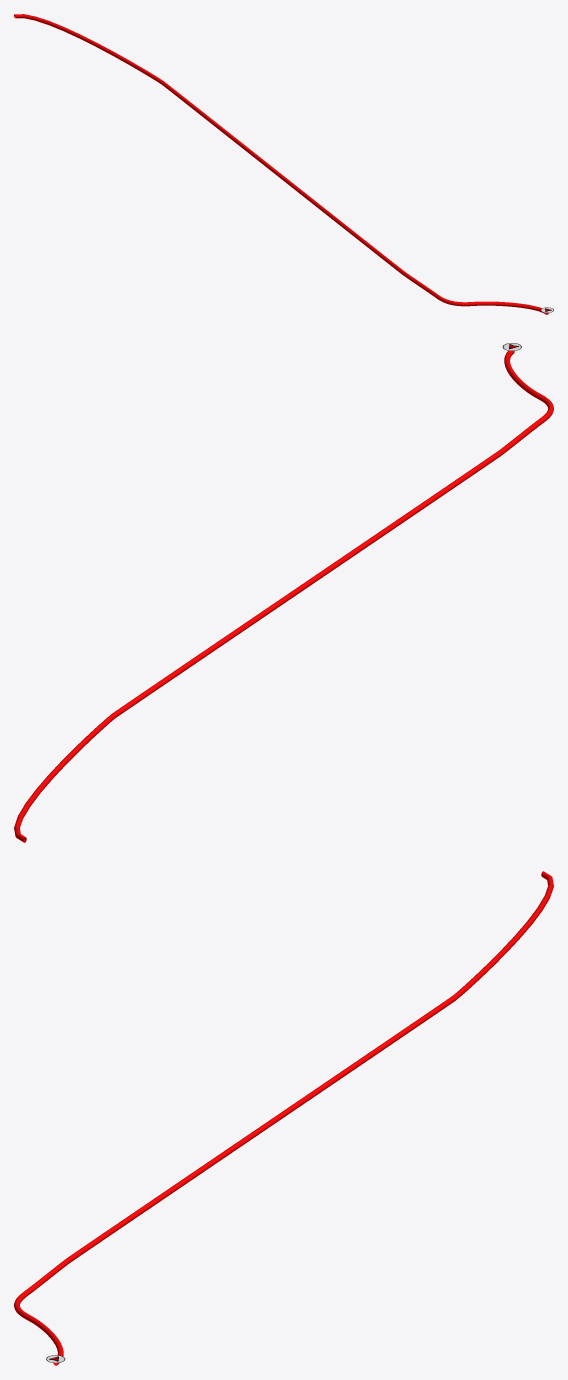
File: route_b6d6ddf0-5402-41f9-a25c-c834262b9103_de_single.glb
3 views of the same model, one above another, from view 1: azimuth 30°, elevation 25°; view 2: azimuth 150°, elevation 25°; view 3: azimuth 330°, elevation 25° (orthographic). The views are drawn at different scales.
Visible parts, largest first — view 1: A10; view 2: A10; view 3: A10.
Boxes of the visible parts, x1,y1,x2,y2 form: A10: (14, 14, 548, 314); A10: (14, 350, 553, 842); A10: (14, 871, 553, 1365).
Bounding box in the file's own units: 2.26 × 0.1062 × 17.07.
